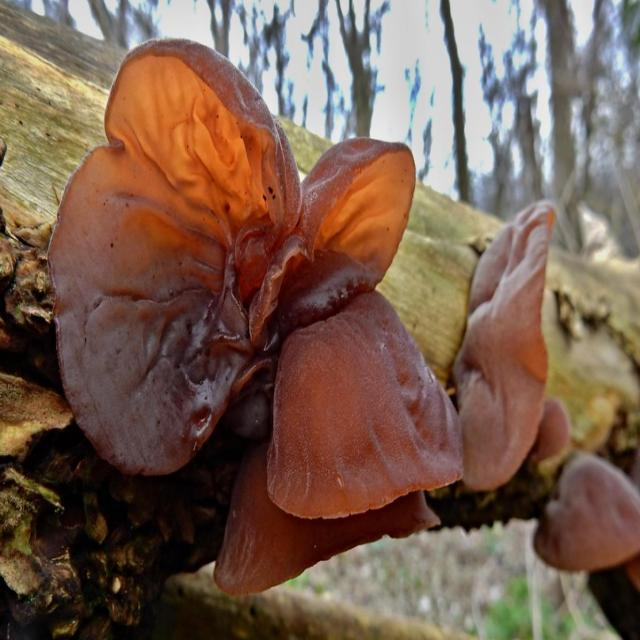Matang: (49, 22, 463, 581), (448, 196, 560, 502), (532, 445, 640, 583)
